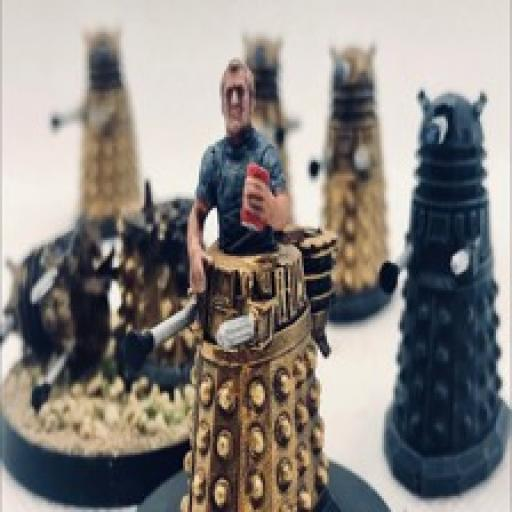dalek: (112, 226, 336, 512), (373, 79, 511, 501), (308, 40, 398, 327), (46, 26, 150, 216), (237, 34, 304, 188)
